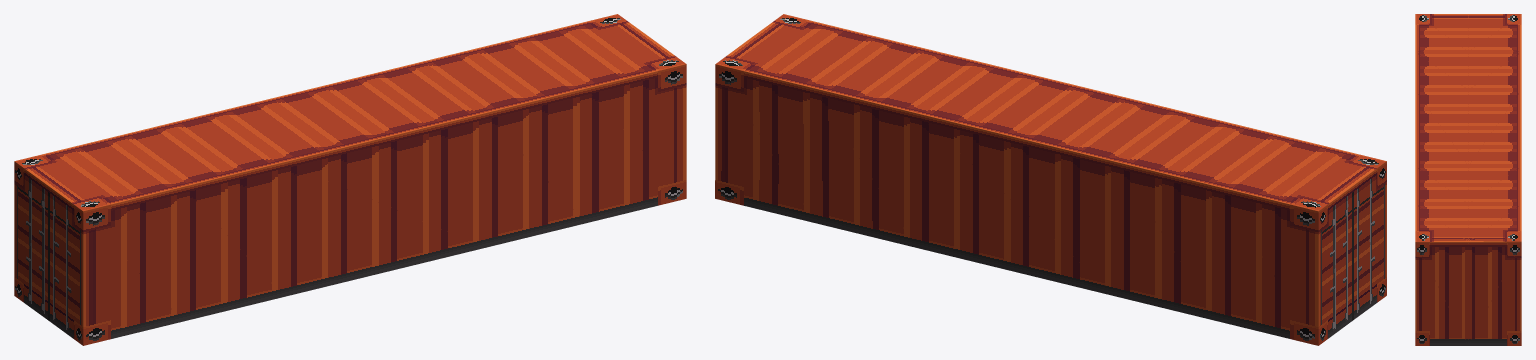
Rendered from fcl_container.glb.
3 views of the same model, side by side, from view 1: azimuth 30°, elevation 25°; view 2: azimuth 150°, elevation 25°; view 3: azimuth 270°, elevation 25° (orthographic). The views are drawn at different scales.
Parts seen in each view (by area): view 1: ShippingContainer; view 2: ShippingContainer; view 3: ShippingContainer.
Boxes of the visible parts, box(x1,y1,x2,y2) form: ShippingContainer: box(14, 14, 686, 345); ShippingContainer: box(715, 14, 1386, 345); ShippingContainer: box(1415, 14, 1521, 345).
Size of the model in its own units: 12.2 by 2.6 by 2.4.
1 material, 1 textured.
